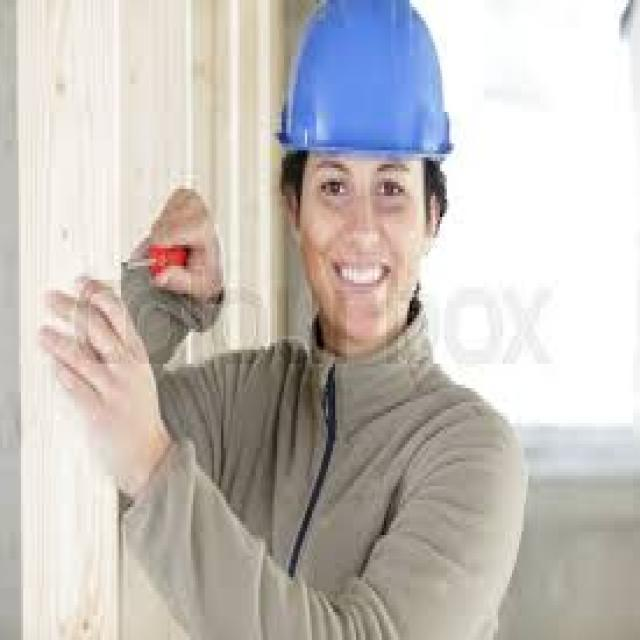screwdriver: (115, 220, 197, 280)
